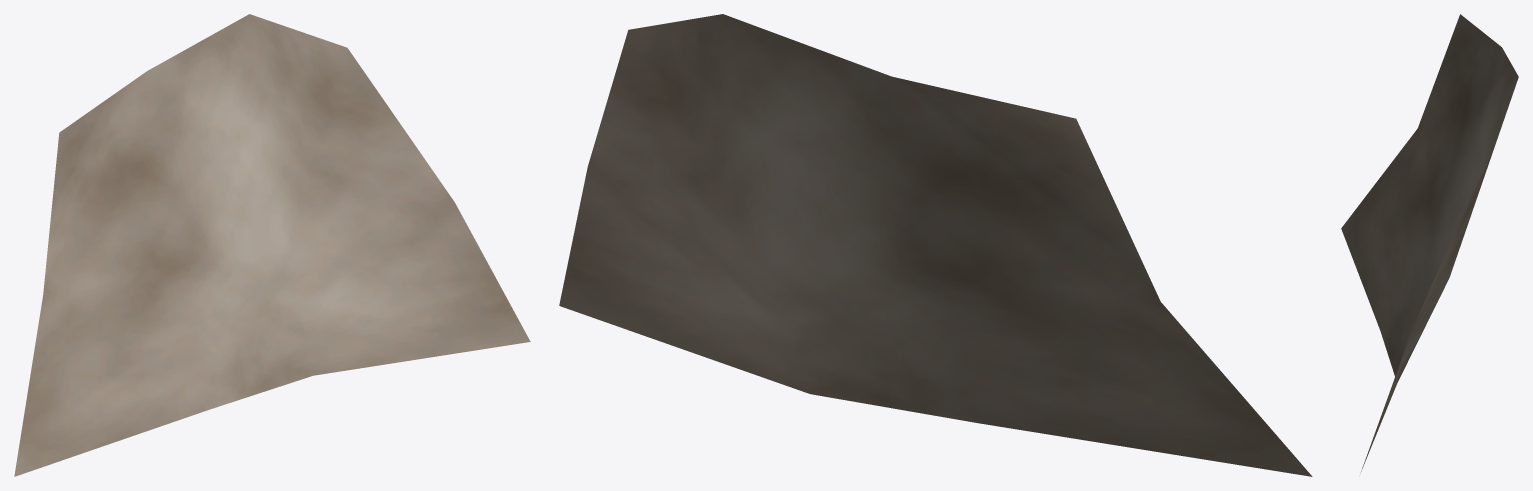
File: web_06.fbx
The picture shows the model from 3 angles, left to right: view 1: azimuth 30°, elevation 25°; view 2: azimuth 150°, elevation 25°; view 3: azimuth 270°, elevation 25°; orthographic projection. The views are drawn at different scales.
Visible parts, largest first — view 1: web_06_mat; view 2: web_06_mat; view 3: web_06_mat.
Part boxes in pixels (x1=…): web_06_mat: x1=14, y1=14, x2=530, y2=476; web_06_mat: x1=559, y1=14, x2=1312, y2=476; web_06_mat: x1=1341, y1=14, x2=1518, y2=472.
Bounding box in the file's own units: 6.19 × 3.56 × 1.87.
